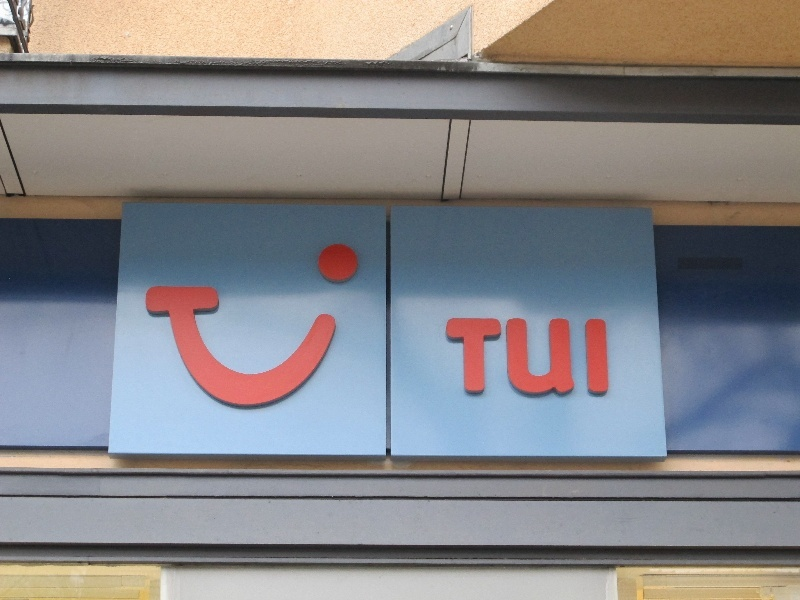text: (593, 319, 609, 397), (449, 319, 464, 397), (465, 319, 480, 397), (481, 319, 496, 397), (497, 319, 512, 397), (513, 319, 528, 397), (529, 319, 544, 397), (545, 319, 560, 397), (561, 319, 576, 397), (577, 319, 592, 397), (445, 319, 448, 397)
